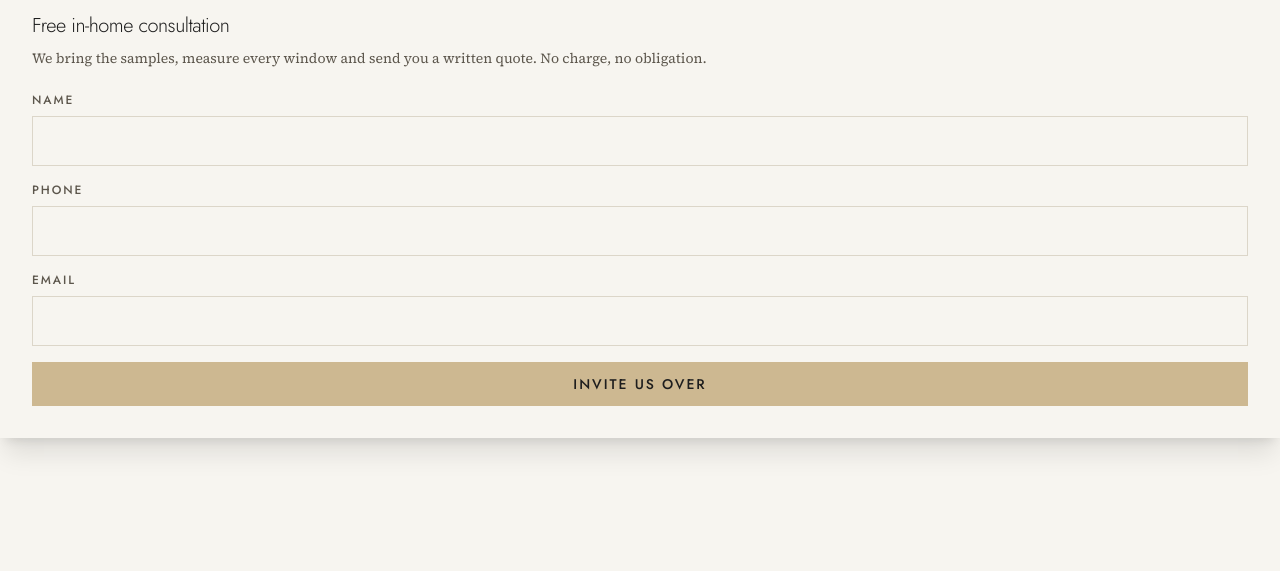
HeroForm › stays on the page when the server rejects the request
Step 1. Type "Dana Reyes" into the field labelled "Name" → coordinates (640, 141), box x1=32 y1=116 x2=1248 y2=166
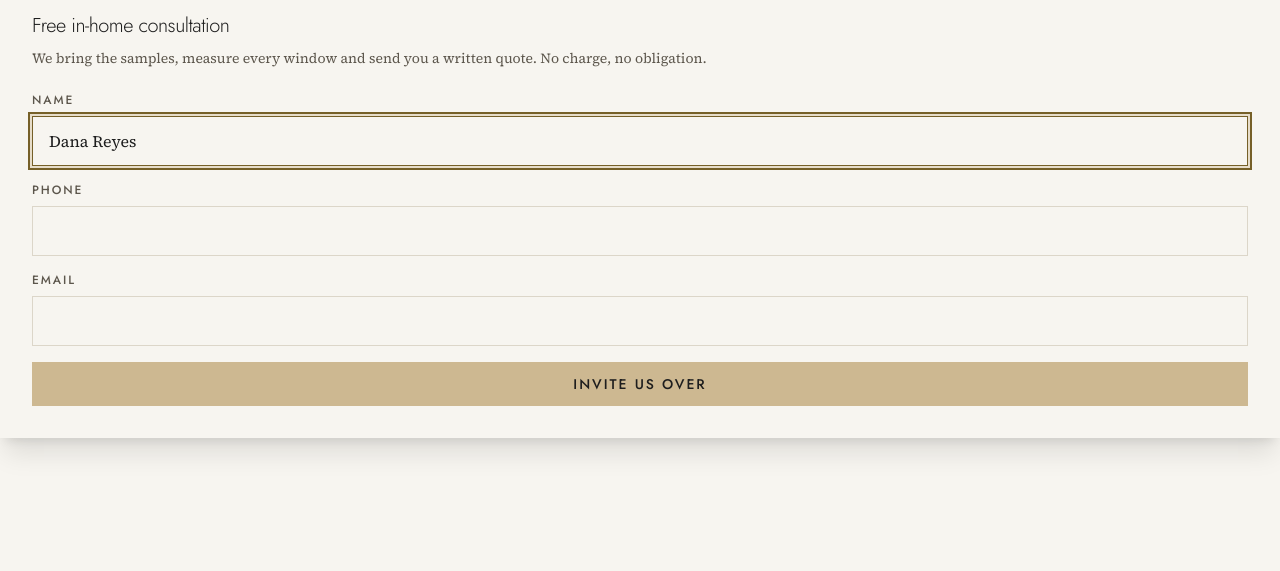
Step 2. Type "7025550134" into the field labelled "Phone" → coordinates (640, 231), box x1=32 y1=206 x2=1248 y2=256
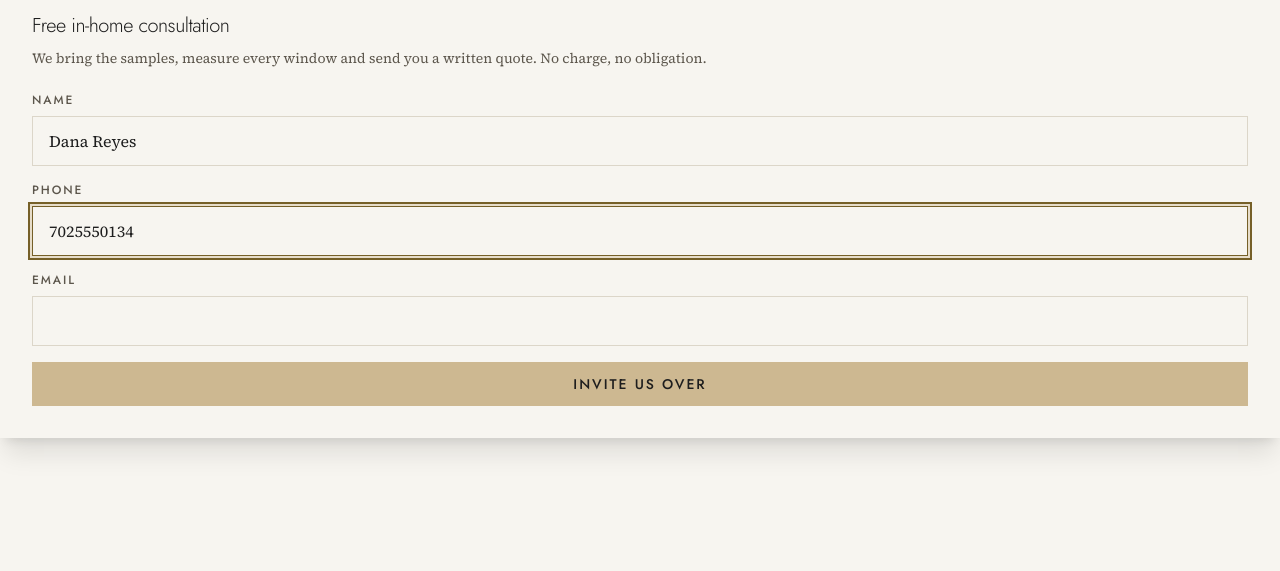
Step 3. Type "dana@example.com" into the field labelled "Email" → coordinates (640, 321), box x1=32 y1=296 x2=1248 y2=346
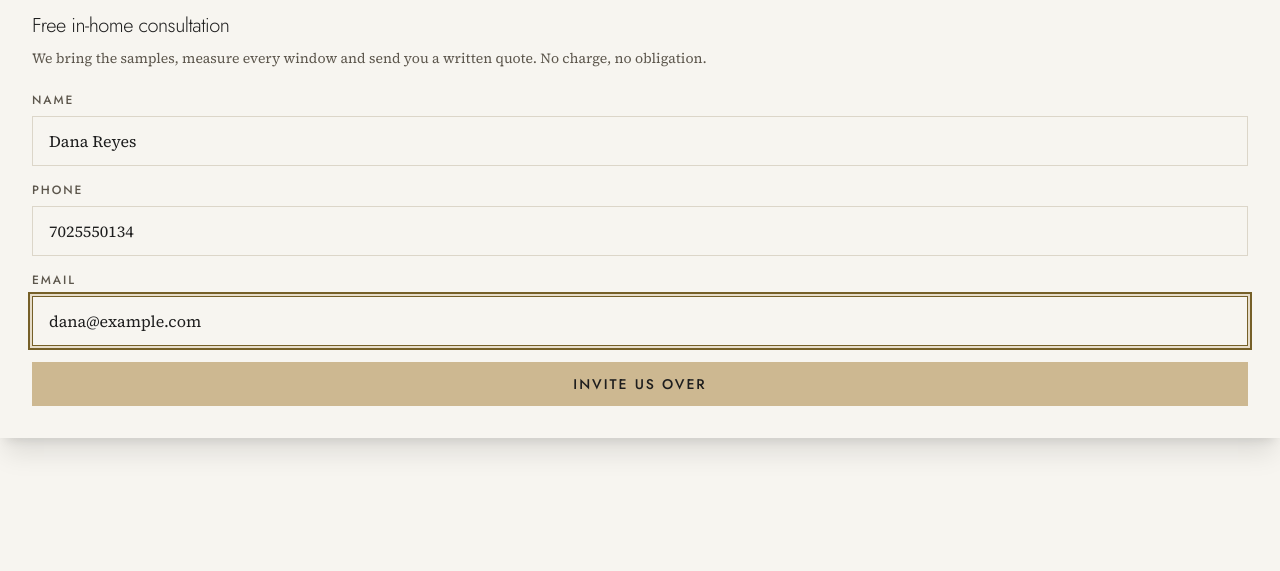
Step 4. Click the button "Invite Us Over" → coordinates (640, 384), box x1=32 y1=362 x2=1248 y2=406
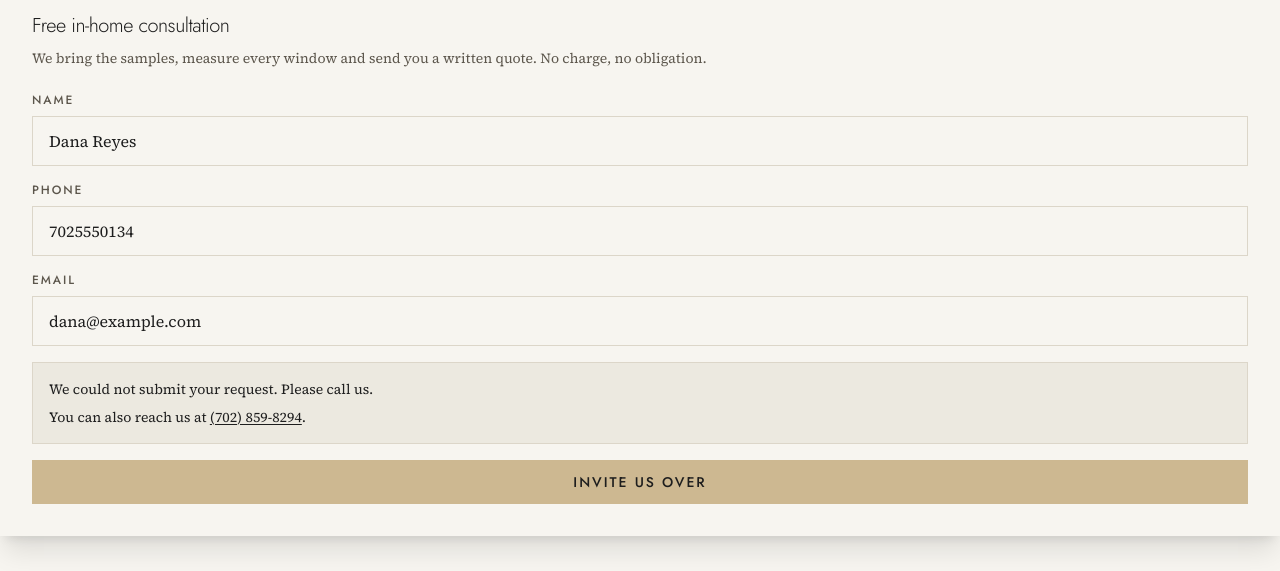
Expected: the message is shown, x1=32 y1=362 x2=1248 y2=444
